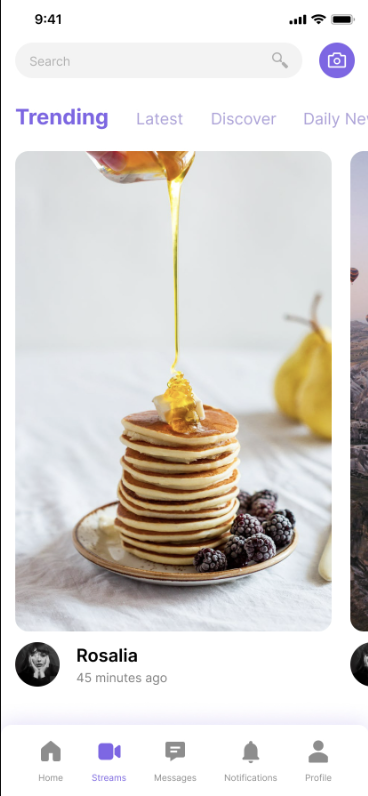BottomBar: (1, 724, 368, 796)
